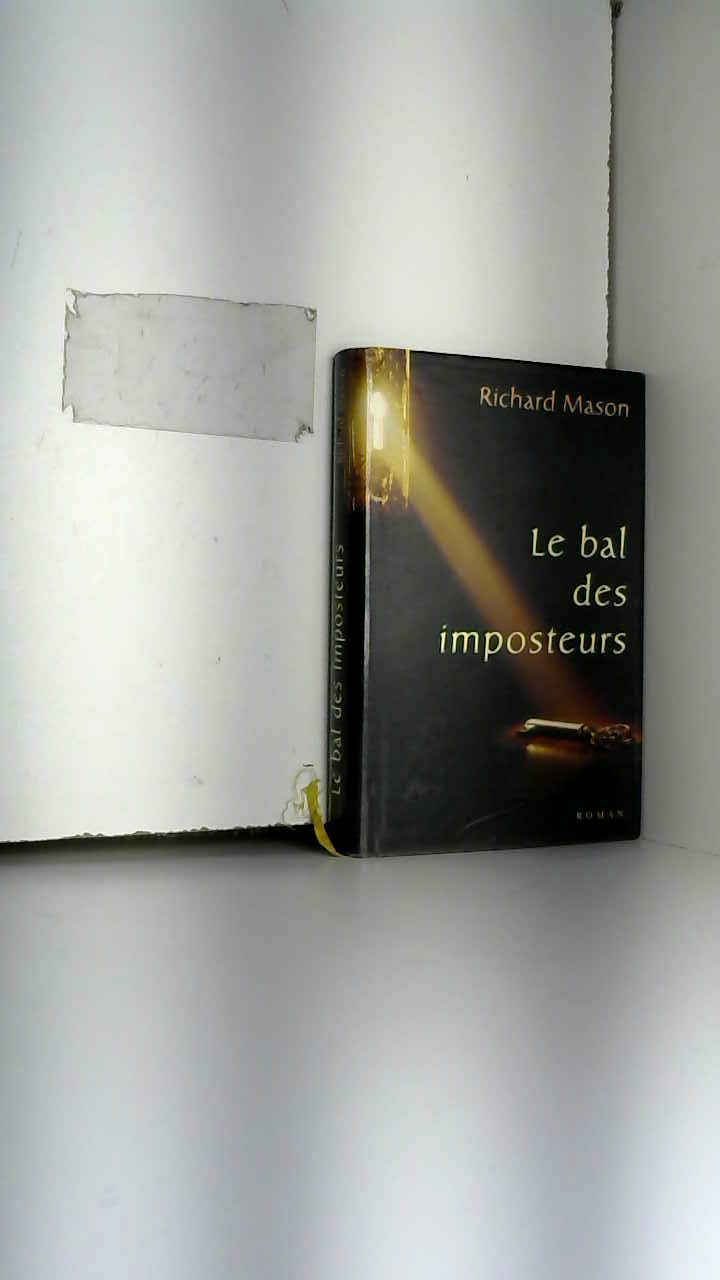book: (296, 303, 669, 895)
